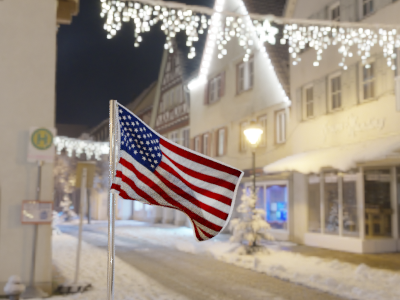America flag: (111, 101, 245, 242)
